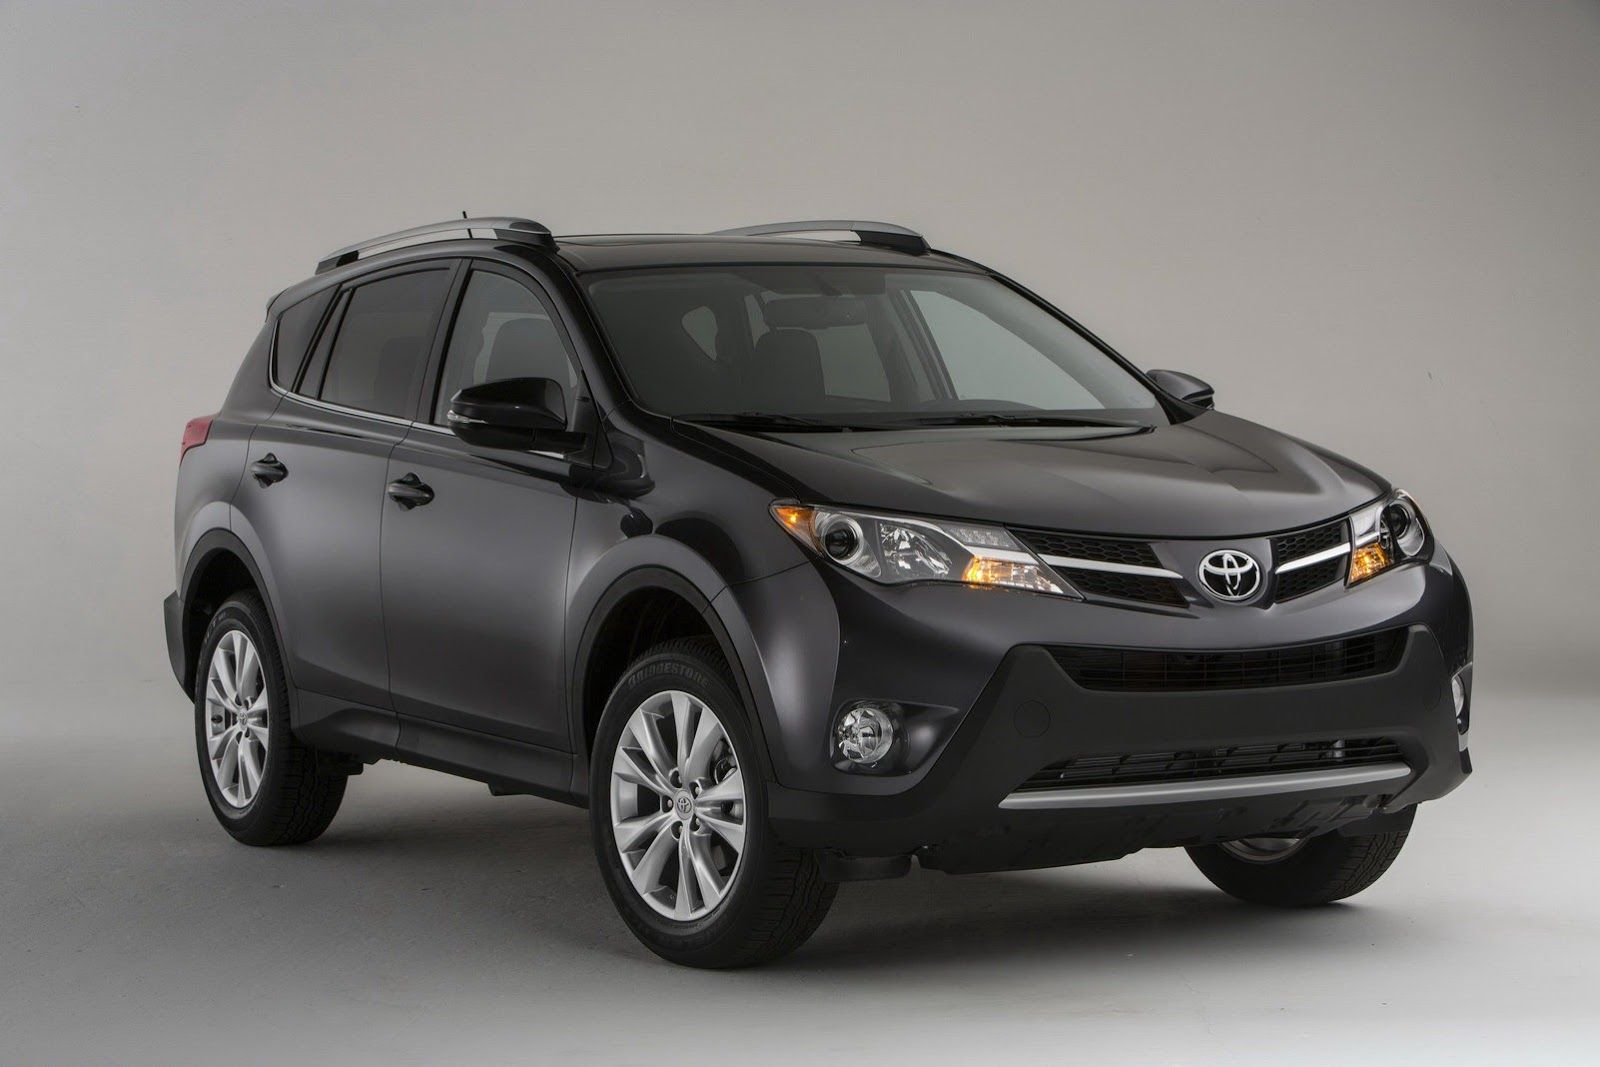Toyota RAV-4: (160, 214, 1479, 974)
